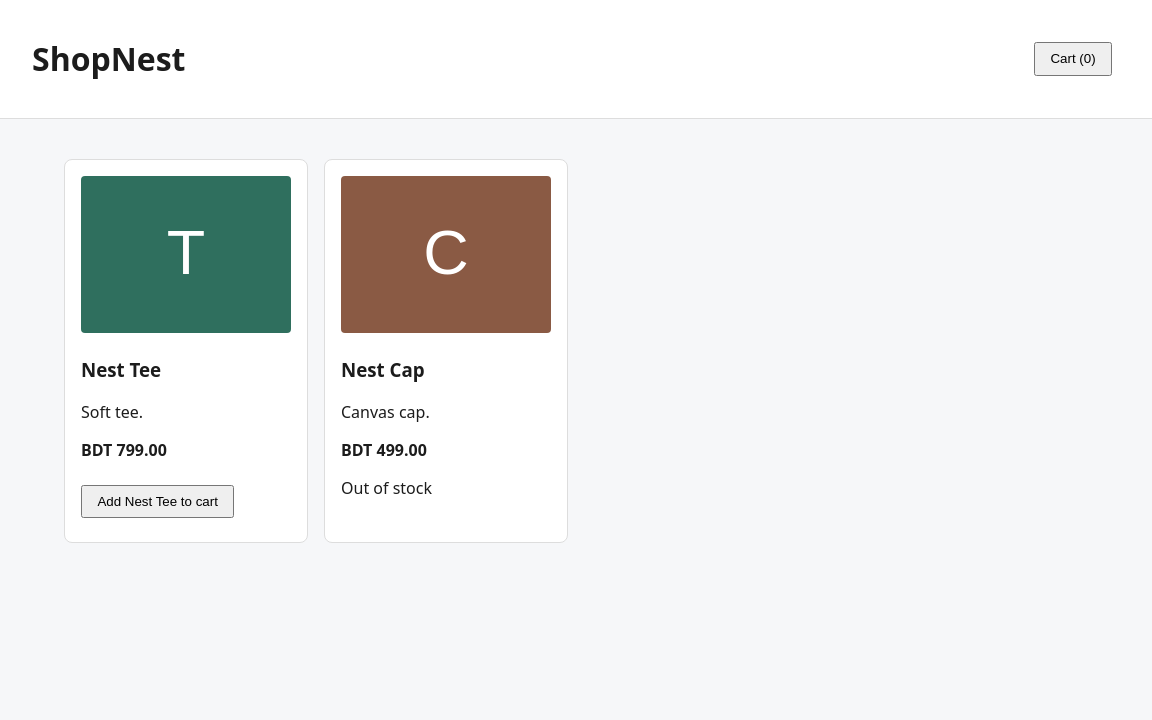
Test case: cart and checkout flow › shows an empty-cart message after removing the last item
What coordinates should you click on to do the following:
click the button "Add Nest Tee to cart"
I would click on:
 (158, 502)
Its box is [81, 485, 234, 518].
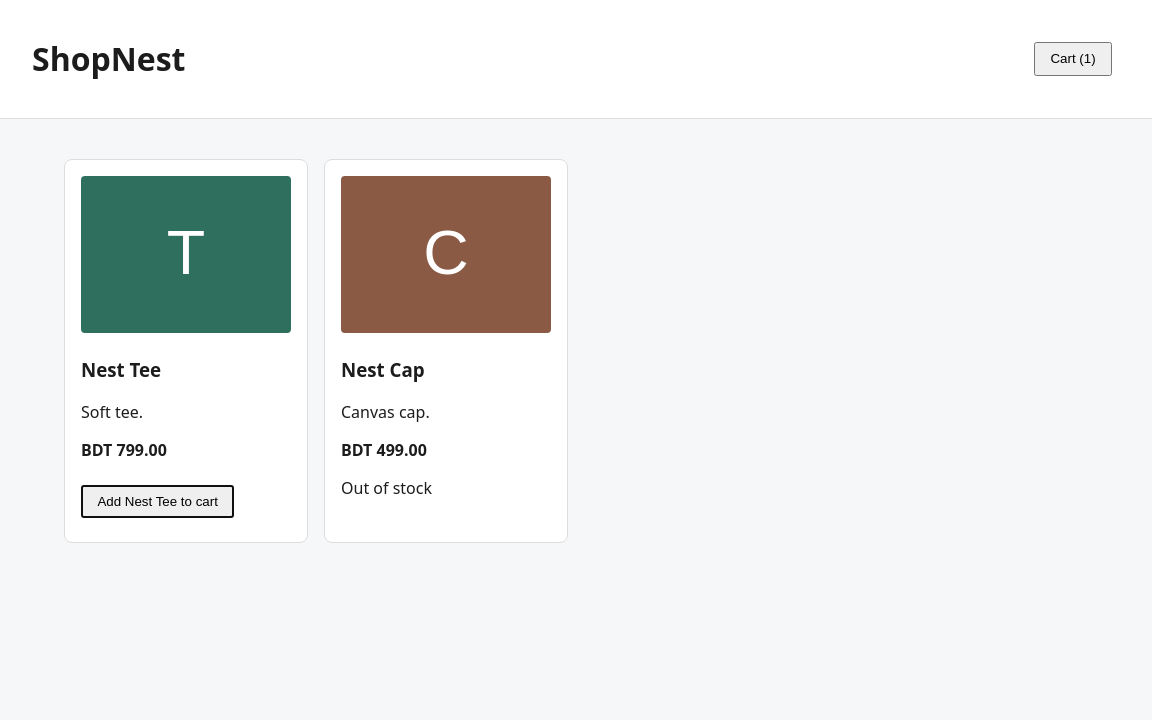
What coordinates should you click on to do the following:
click the button "Cart (1)"
I would click on:
 (1073, 59)
Its box is [1034, 42, 1112, 76].
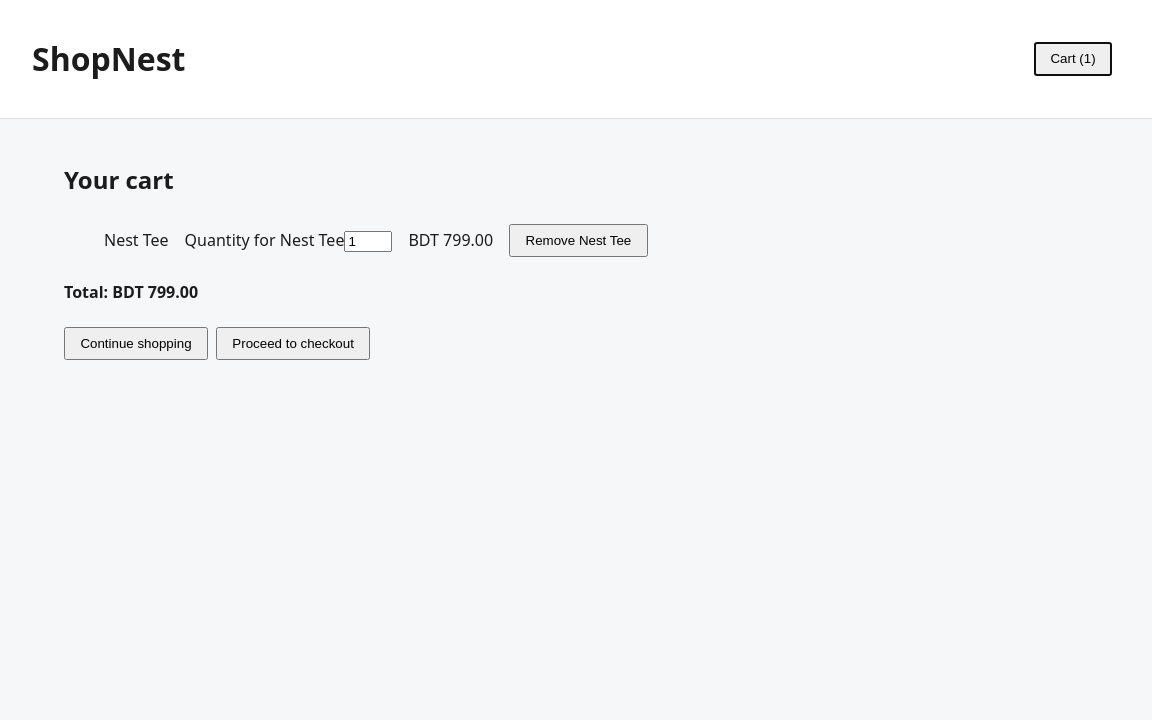
What coordinates should you click on to do the following:
click the button "Remove Nest Tee"
I would click on:
 (578, 240)
Its box is [509, 224, 648, 257].
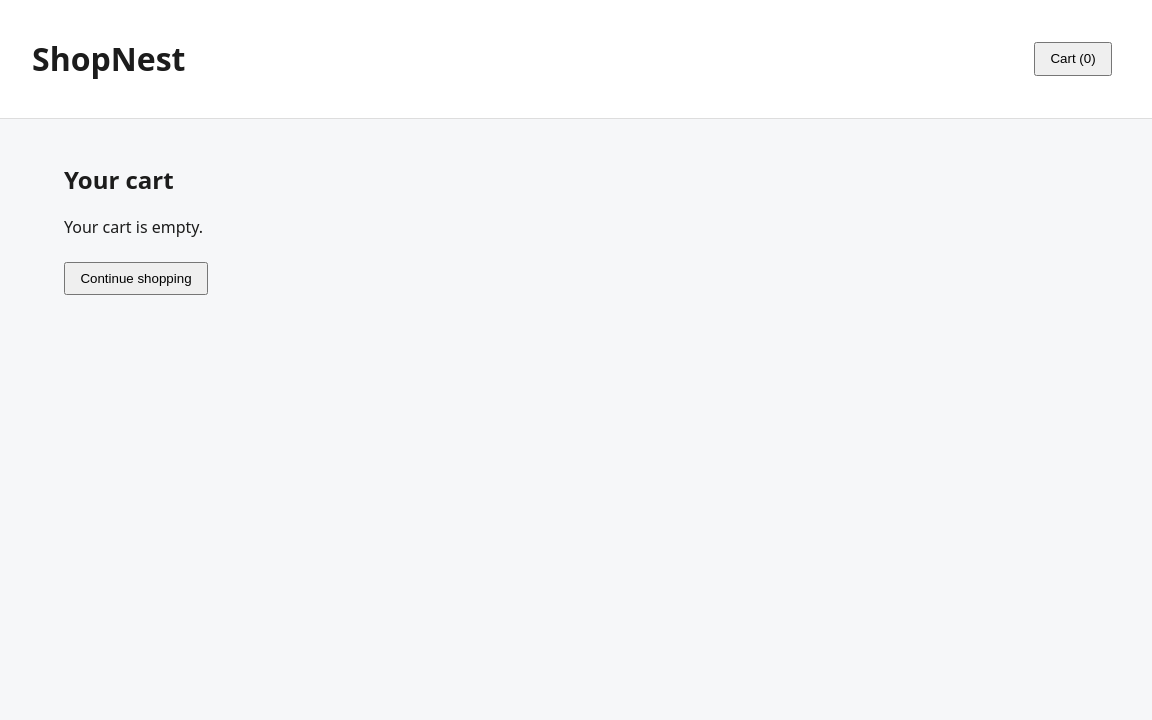
Expected: the text "Your cart is empty." is shown, [64, 216, 203, 238]
